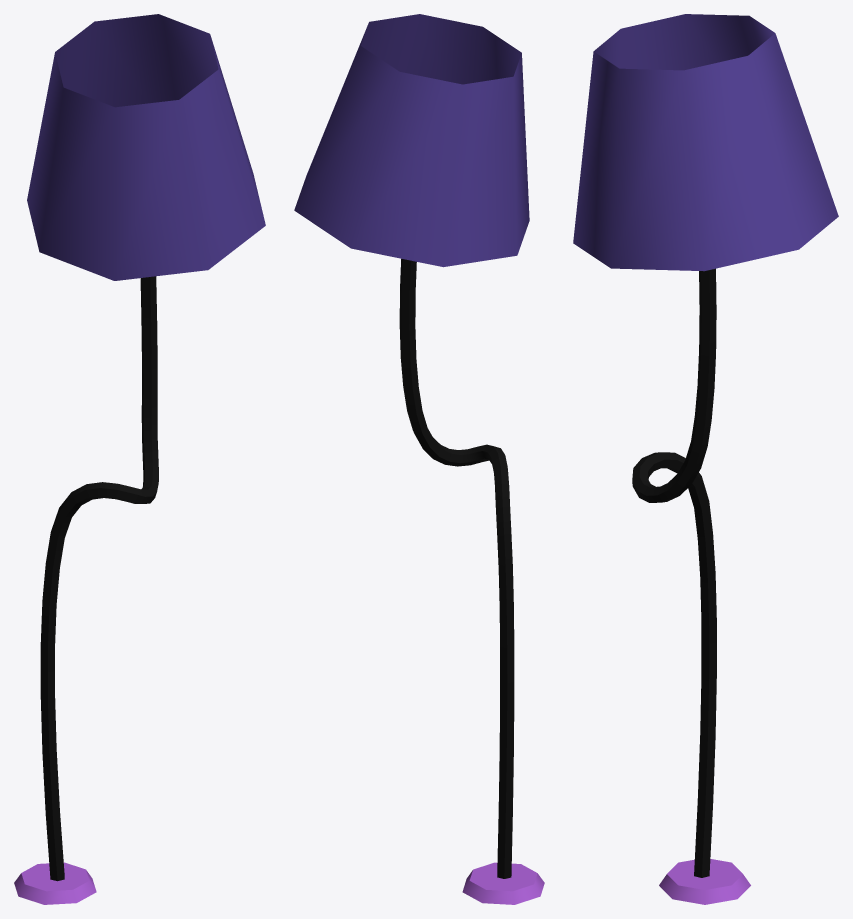
The model's file is lamp.FBX.
3 views of the same model, side by side, from view 1: azimuth 30°, elevation 25°; view 2: azimuth 150°, elevation 25°; view 3: azimuth 270°, elevation 25° (orthographic). The views are drawn at different scales.
Visible parts, largest first — view 1: lamp_base; view 2: lamp_base; view 3: lamp_base.
Boxes of the visible parts, <box> form: lamp_base: <box>14,14,265,904</box>; lamp_base: <box>294,14,544,904</box>; lamp_base: <box>573,14,838,904</box>.
Bounding box in the file's own units: 45.43 × 153 × 41.22.
